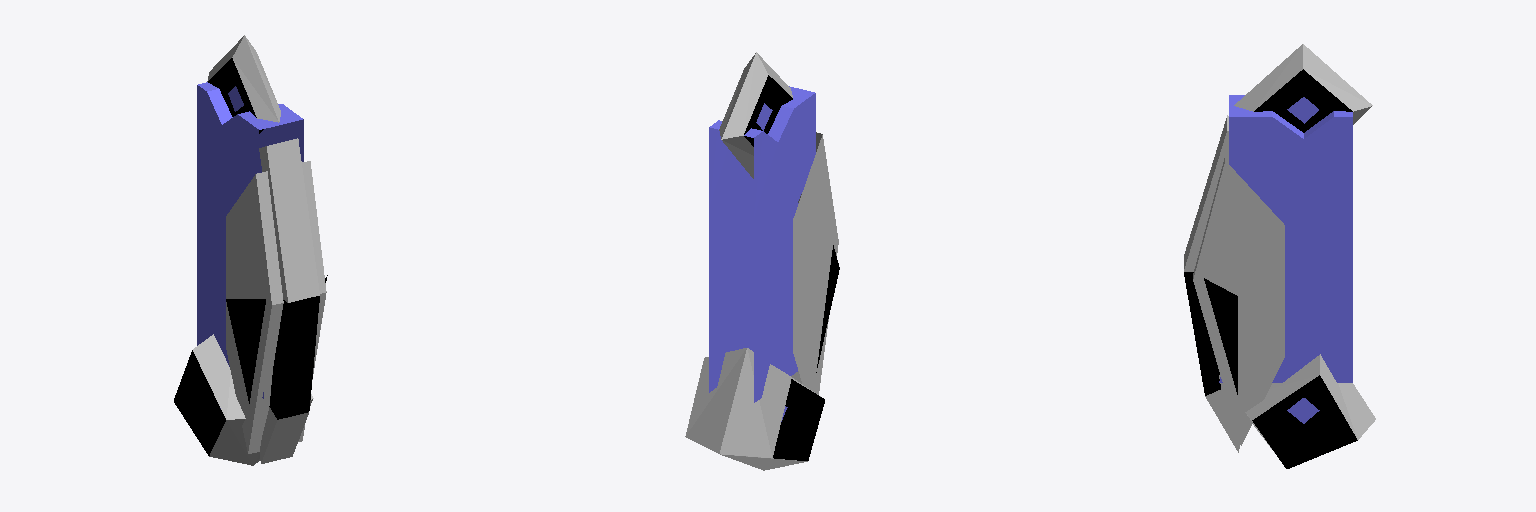
The model's file is lightcycle low.obj.
The picture shows the model from 3 angles: view 1: azimuth 30°, elevation 25°; view 2: azimuth 150°, elevation 25°; view 3: azimuth 270°, elevation 25°; orthographic projection.
Bounding box in the file's own units: 93.51 × 372 × 153.